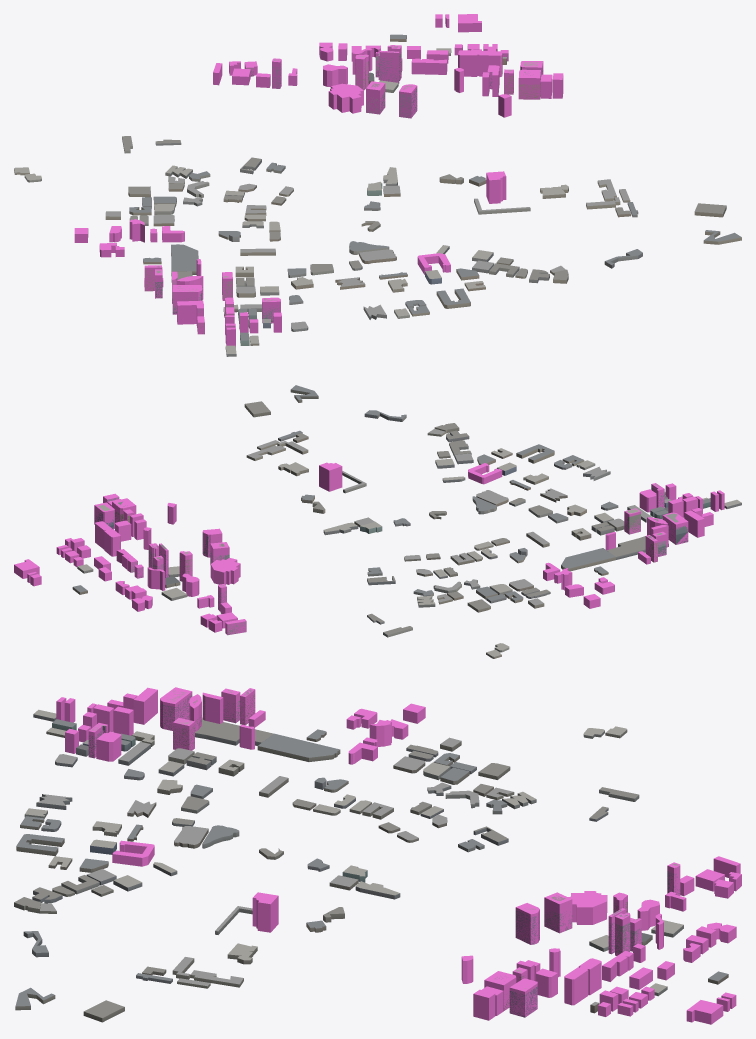
Rendered from bld_14_12.fbx.
The picture shows the model from 3 angles, top to bottom: view 1: azimuth 30°, elevation 25°; view 2: azimuth 150°, elevation 25°; view 3: azimuth 270°, elevation 25°; orthographic projection. The views are drawn at different scales.
Visible parts, largest first — view 1: bld_14_12_LOD0, bld_14_12_COL; view 2: bld_14_12_LOD0, bld_14_12_COL; view 3: bld_14_12_LOD0, bld_14_12_COL.
Boxes of the visible parts, x1=… form: bld_14_12_LOD0: x1=14, y1=34, x2=741, y2=356; bld_14_12_COL: x1=74, y1=14, x2=563, y2=346; bld_14_12_LOD0: x1=29, y1=385, x2=741, y2=658; bld_14_12_COL: x1=14, y1=462, x2=724, y2=634; bld_14_12_LOD0: x1=14, y1=689, x2=728, y2=1022; bld_14_12_COL: x1=56, y1=687, x2=741, y2=1024.
Size of what is drawn, in the model's own units: 2080 by 120 by 2037.
